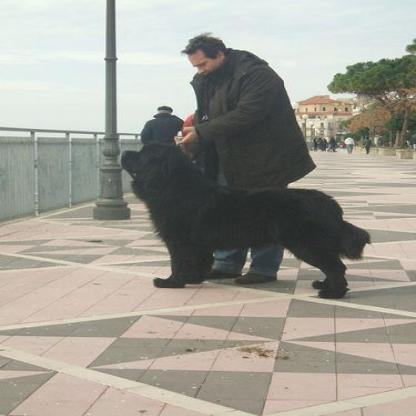Newfoundland: (116, 139, 368, 297)
